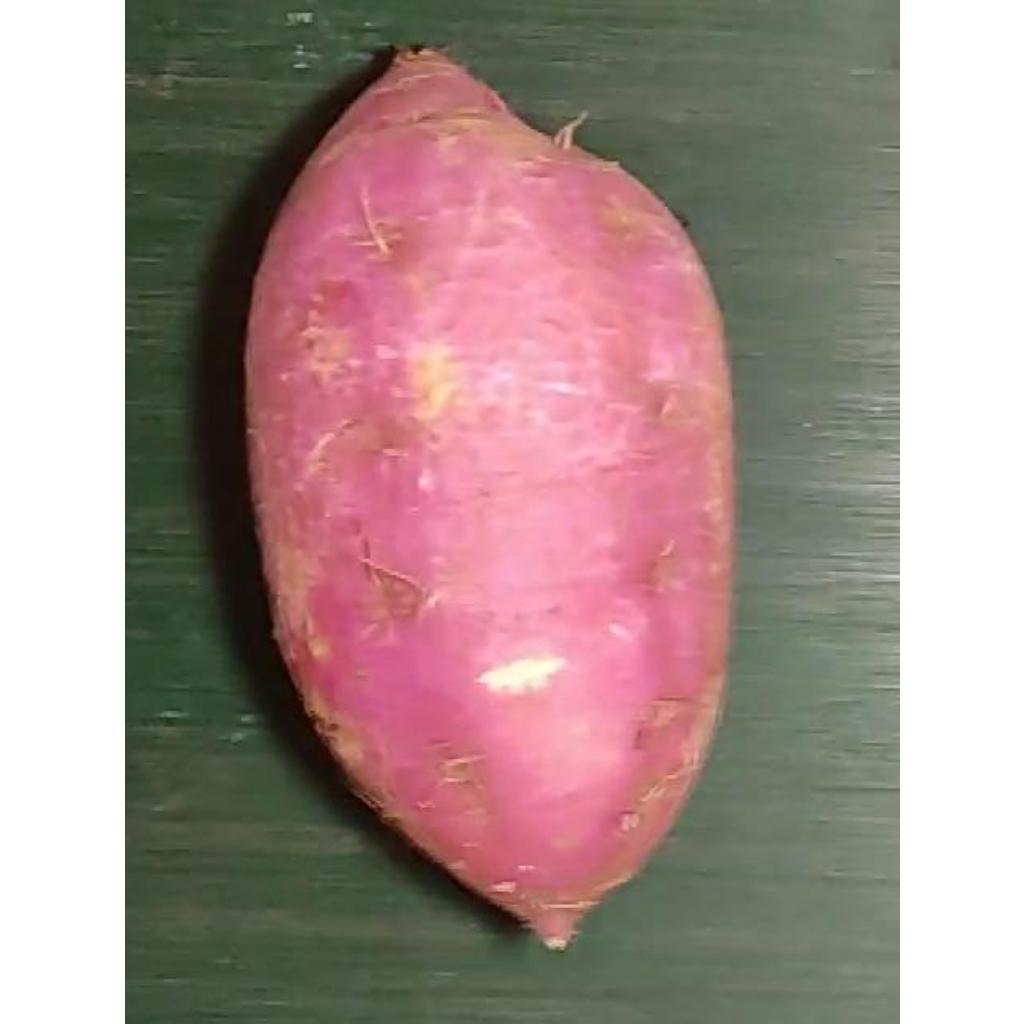Sweet Potato: (242, 50, 736, 953)
